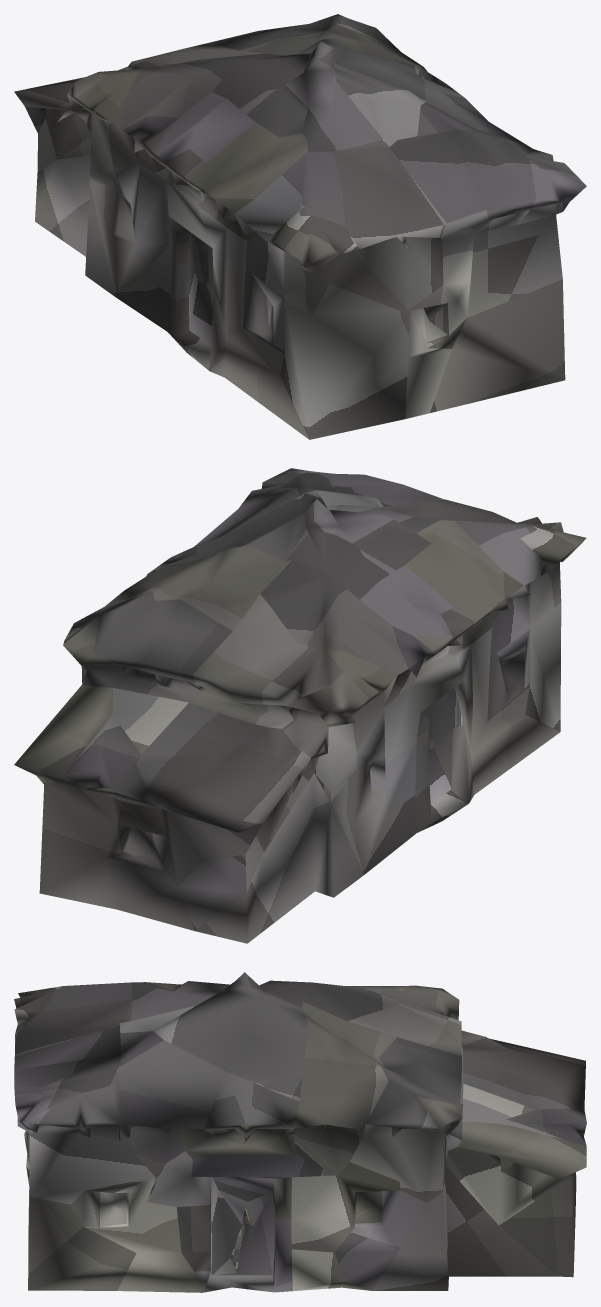
File: house_generic_d_lo.glb
The picture shows the model from 3 angles, top to bottom: view 1: azimuth 30°, elevation 25°; view 2: azimuth 150°, elevation 25°; view 3: azimuth 270°, elevation 25°; orthographic projection. The views are drawn at different scales.
Parts seen in each view (by area): view 1: tripo_node_da5bad59-9eec-423f-bd8d-223ee4fc1f99; view 2: tripo_node_da5bad59-9eec-423f-bd8d-223ee4fc1f99; view 3: tripo_node_da5bad59-9eec-423f-bd8d-223ee4fc1f99.
Part boxes in pixels (x1,y1,x2,y2): tripo_node_da5bad59-9eec-423f-bd8d-223ee4fc1f99: (14, 14, 586, 439); tripo_node_da5bad59-9eec-423f-bd8d-223ee4fc1f99: (14, 468, 586, 943); tripo_node_da5bad59-9eec-423f-bd8d-223ee4fc1f99: (14, 972, 586, 1292).
Size of the model in its own units: 0.5386 by 0.4921 by 0.9771.
1 material, 1 textured.
